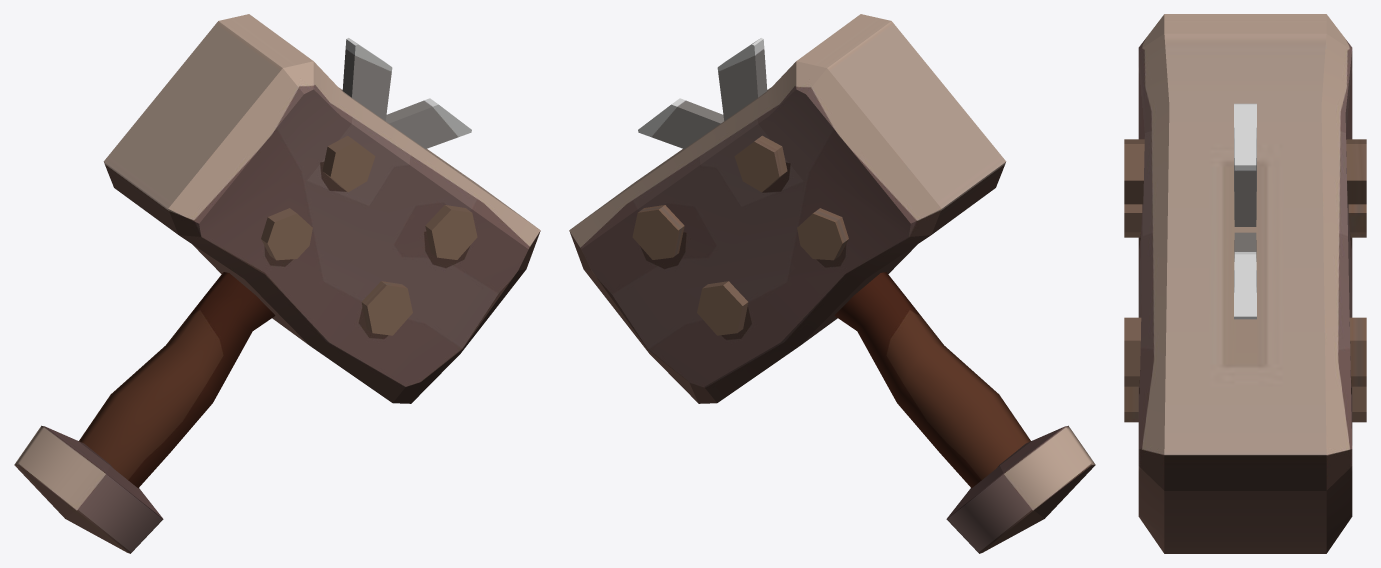
File: Bronze_04.FBX
3 renders of one model, left to right at view 1: azimuth 30°, elevation 25°; view 2: azimuth 150°, elevation 25°; view 3: azimuth 270°, elevation 25°, orthographic. The views are drawn at different scales.
Parts seen in each view (by area): view 1: bronze_04; view 2: bronze_04; view 3: bronze_04.
Boxes of the visible parts, bbox=[...] form: bronze_04: bbox=[14, 14, 540, 553]; bronze_04: bbox=[569, 14, 1095, 553]; bronze_04: bbox=[1124, 14, 1366, 553].
Bounding box in the file's own units: 74.03 × 68.98 × 25.23.
